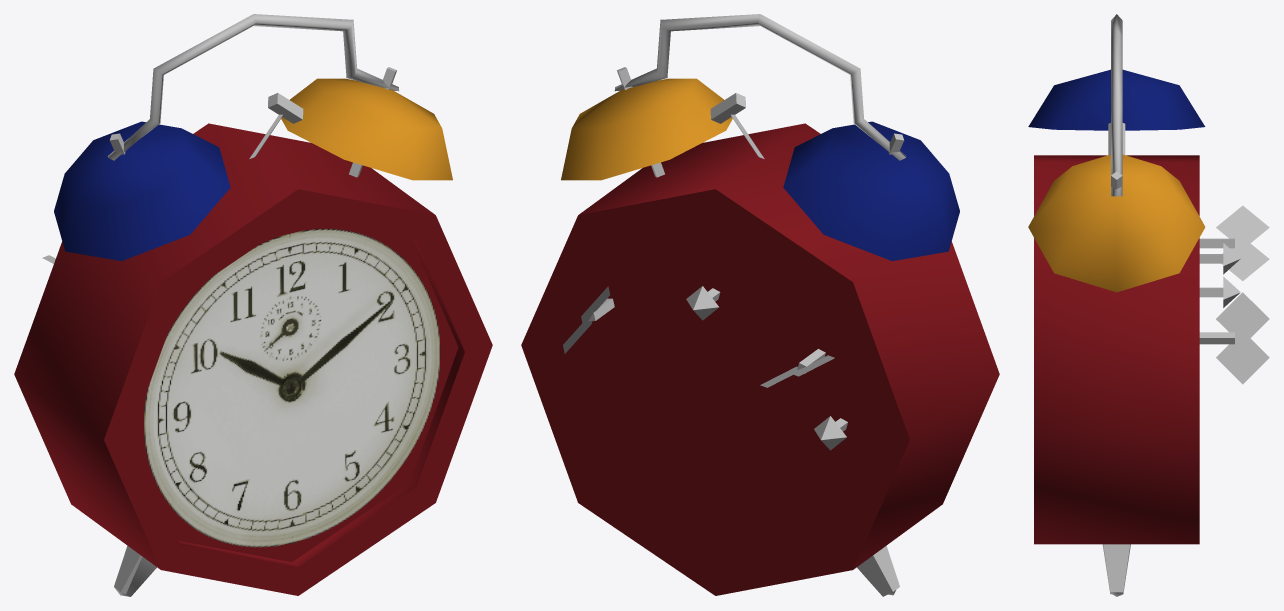
File: dong-ho-bao-thuc.glb
3 views of the same model, side by side, from view 1: azimuth 30°, elevation 25°; view 2: azimuth 150°, elevation 25°; view 3: azimuth 270°, elevation 25° (orthographic). The views are drawn at different scales.
Parts seen in each view (by area): view 1: dong-ho-bao-thuc; view 2: dong-ho-bao-thuc; view 3: dong-ho-bao-thuc.
Part boxes in pixels (x1,y1,x2,y2): dong-ho-bao-thuc: (14,14,492,596); dong-ho-bao-thuc: (521,14,999,596); dong-ho-bao-thuc: (1028,14,1269,596).
Bounding box in the file's own units: 0.7404 × 1 × 0.4324.
5 materials, 1 textured.
